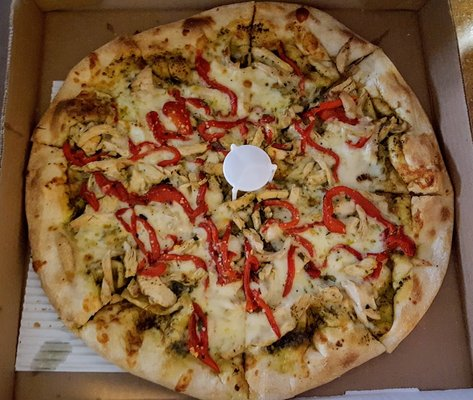sandwich: (26, 1, 452, 399)
